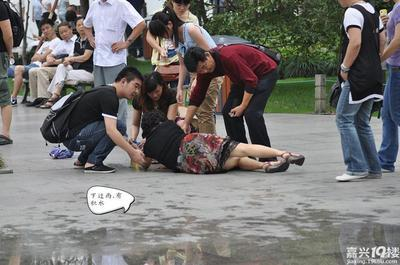10+: (1, 1, 399, 184)
down: (138, 112, 305, 179)
